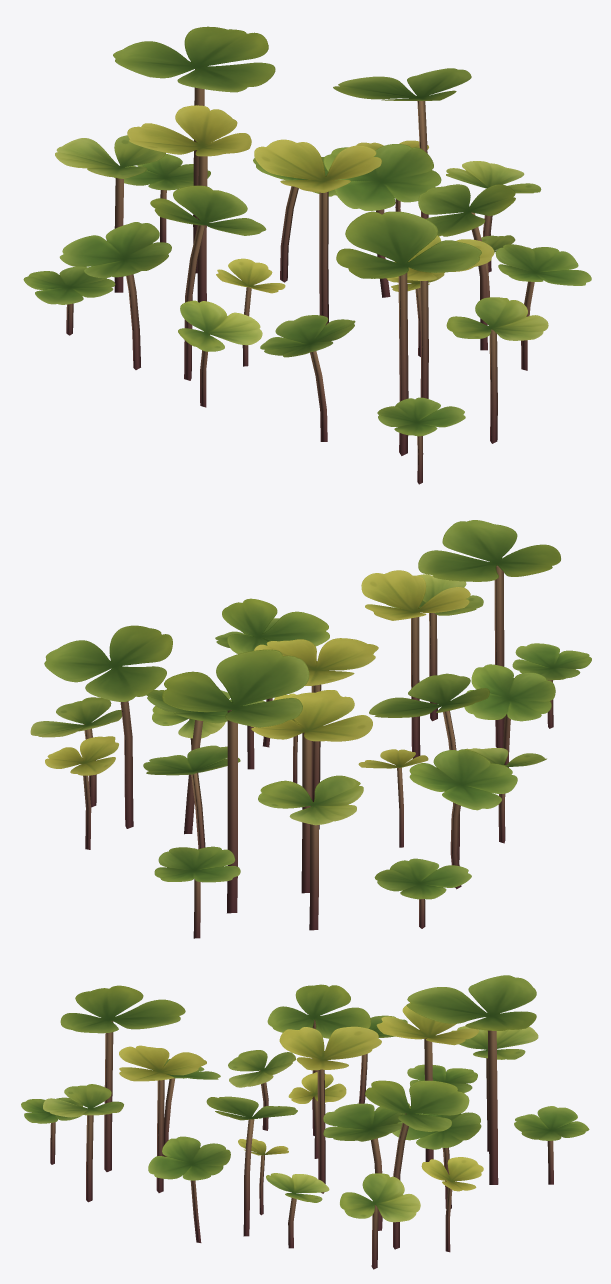
3 renders of one model, top to bottom at view 1: azimuth 30°, elevation 25°; view 2: azimuth 150°, elevation 25°; view 3: azimuth 270°, elevation 25°, orthographic. The views are drawn at different scales.
Visible parts, largest first — view 1: pl-clover-a; view 2: pl-clover-a; view 3: pl-clover-a.
Part boxes in pixels (x1,y1,x2,y2): pl-clover-a: [23, 26, 591, 484]; pl-clover-a: [30, 520, 591, 938]; pl-clover-a: [21, 975, 589, 1269].
Size of the model in its own units: 0.8663 by 0.3961 by 1.13.
1 material, 1 textured.
